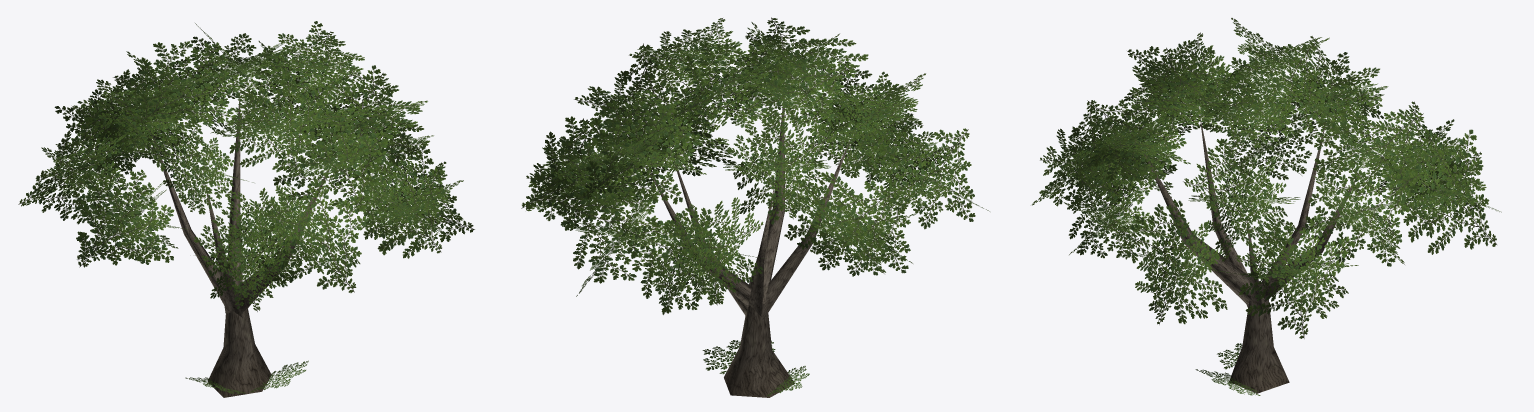
Rendered from oak.glb.
The picture shows the model from 3 angles, left to right: view 1: azimuth 30°, elevation 25°; view 2: azimuth 150°, elevation 25°; view 3: azimuth 270°, elevation 25°; orthographic projection. The views are drawn at different scales.
Parts seen in each view (by area): view 1: oak_foliage, oak_wood; view 2: oak_foliage, oak_wood; view 3: oak_foliage, oak_wood.
Boxes of the visible parts, left/top/right/bottom form: oak_foliage: left=18, top=21, right=474, bottom=393; oak_wood: left=151, top=91, right=328, bottom=397; oak_foliage: left=521, top=17, right=989, bottom=395; oak_wood: left=650, top=98, right=850, bottom=397; oak_foliage: left=1032, top=18, right=1501, bottom=395; oak_wood: left=1144, top=114, right=1361, bottom=393.
Size of the model in its own units: 8.81 by 6.74 by 9.32.
Materials: 2 (2 with a texture image).
